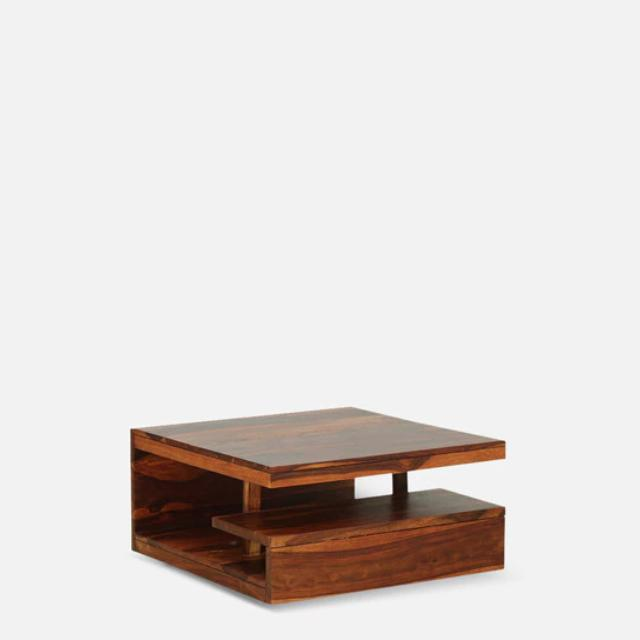obstacle: (102, 346, 556, 610)
